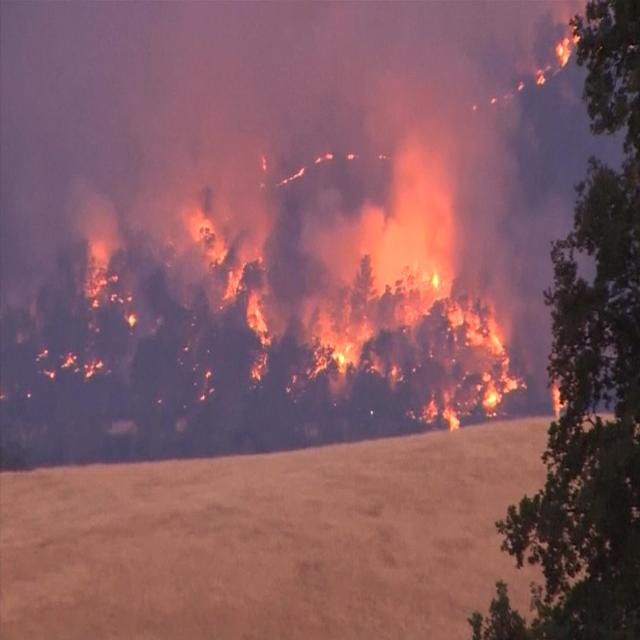Fire: (207, 218, 531, 438), (73, 228, 145, 330)
Smoke: (239, 64, 555, 290)
